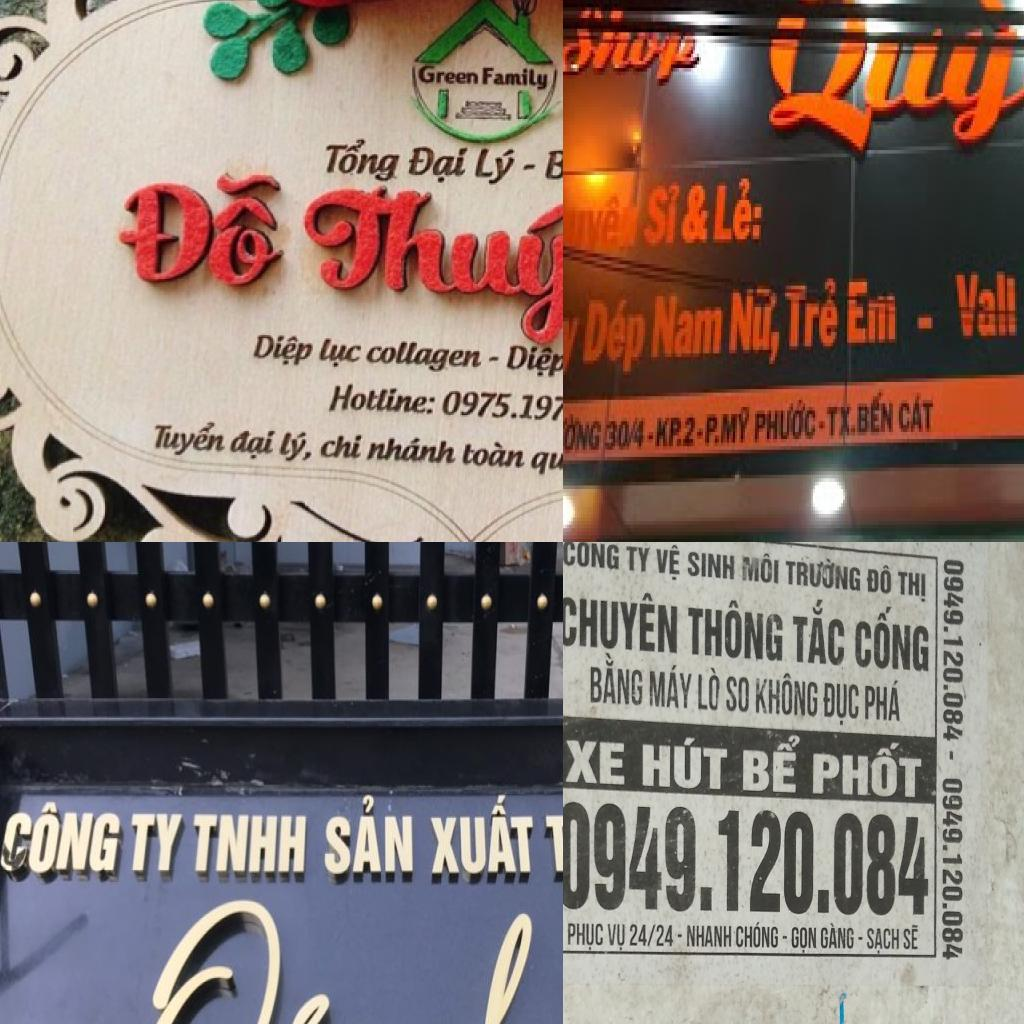text: (119, 891, 563, 1024), (295, 176, 563, 349), (563, 799, 931, 916), (759, 0, 1024, 160), (114, 158, 288, 298), (563, 0, 709, 96), (0, 793, 123, 879), (427, 794, 538, 887), (323, 794, 417, 885), (192, 809, 313, 879), (563, 587, 680, 656), (809, 734, 924, 801), (573, 293, 649, 382), (686, 596, 784, 663), (647, 282, 723, 368), (563, 185, 645, 260), (638, 731, 732, 796), (951, 268, 1024, 350), (783, 268, 841, 368), (727, 275, 781, 382), (853, 602, 930, 674), (938, 556, 966, 746), (441, 387, 563, 429), (843, 268, 901, 353), (362, 337, 486, 375), (326, 380, 438, 421), (711, 168, 767, 250), (129, 806, 188, 881), (738, 731, 803, 797), (789, 595, 847, 666), (321, 135, 406, 181), (146, 417, 230, 463), (641, 172, 685, 254), (366, 431, 460, 469), (563, 736, 626, 790), (753, 396, 819, 446), (247, 328, 318, 374), (586, 650, 644, 705), (753, 672, 818, 720), (784, 552, 861, 592), (406, 143, 471, 186), (675, 179, 713, 250), (645, 660, 692, 714), (501, 344, 563, 383), (563, 289, 587, 389), (857, 386, 897, 446), (897, 386, 939, 442), (458, 438, 528, 470), (314, 332, 368, 372), (563, 410, 605, 460), (226, 425, 280, 463), (472, 144, 522, 184), (862, 676, 903, 724), (480, 68, 552, 95), (603, 410, 647, 454), (820, 680, 860, 728), (719, 404, 753, 454), (684, 548, 736, 580), (563, 542, 620, 571), (731, 919, 779, 952), (683, 922, 732, 954), (825, 400, 859, 446), (655, 410, 687, 457), (276, 425, 315, 463), (563, 920, 604, 956), (628, 920, 674, 952), (527, 439, 563, 479), (818, 920, 856, 957), (318, 431, 366, 460), (696, 664, 722, 716), (738, 552, 780, 584), (895, 567, 928, 607), (724, 671, 752, 717), (417, 66, 479, 86), (862, 924, 900, 956), (654, 545, 681, 582), (788, 922, 819, 954), (864, 560, 893, 594), (540, 146, 563, 186), (900, 922, 925, 958), (604, 920, 628, 956), (913, 307, 939, 339), (703, 410, 723, 450), (624, 545, 650, 574), (683, 414, 699, 450), (647, 428, 657, 446), (817, 414, 827, 432), (697, 424, 705, 442)
